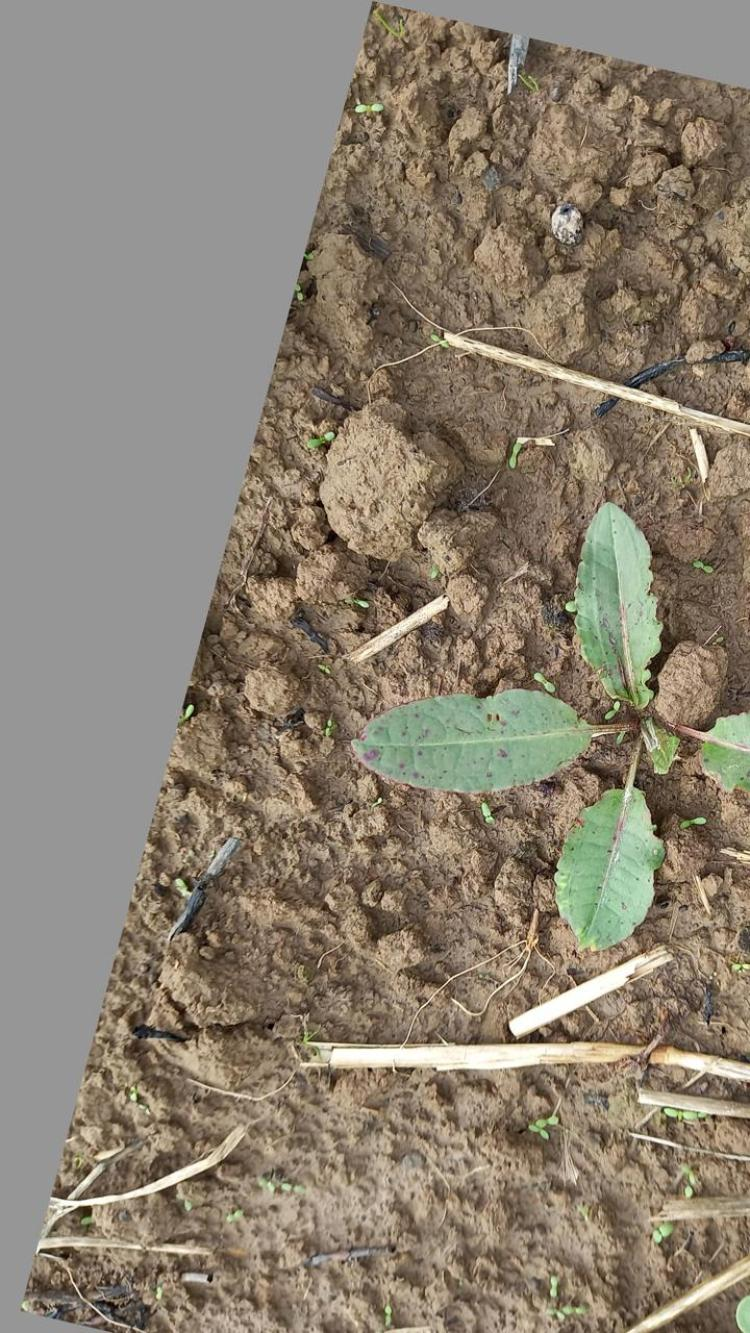zhavel: (352, 502, 750, 954)
